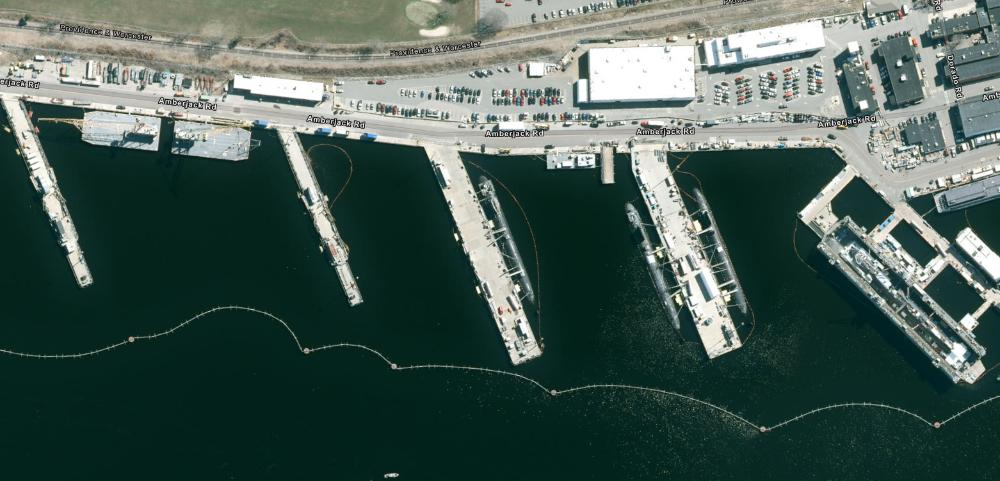submarine: (468, 171, 545, 318), (687, 182, 754, 329), (617, 201, 687, 337)
